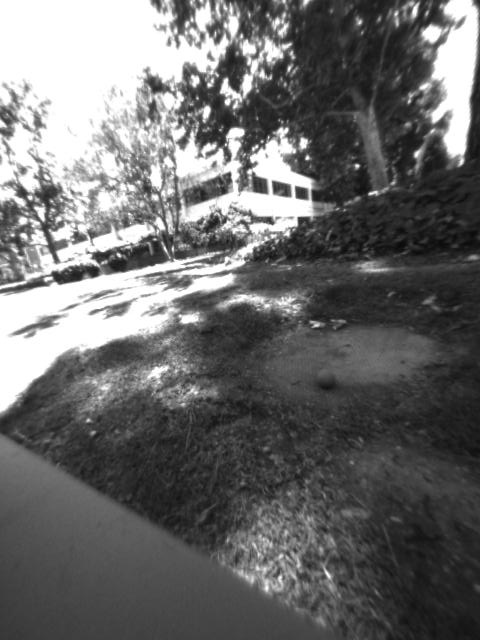dogtoy: (304, 358, 345, 395)
